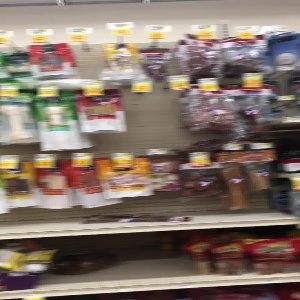void: (113, 228, 190, 285)
